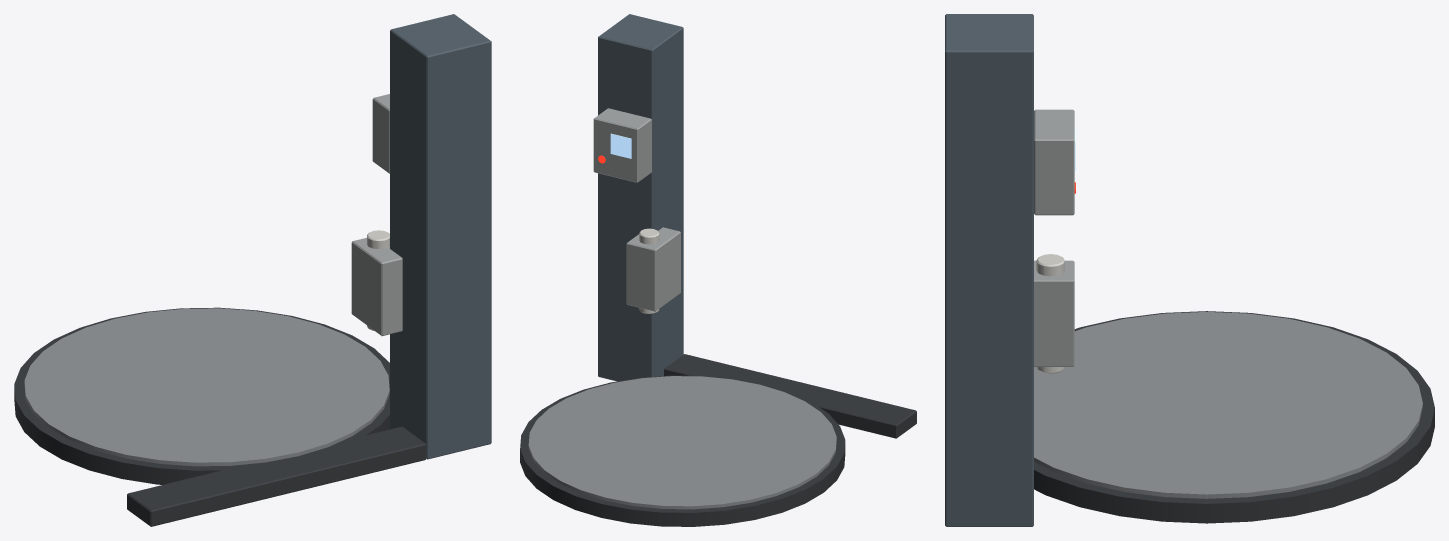
The model's file is prop_pallet_wrapper.glb.
The picture shows the model from 3 angles, left to right: view 1: azimuth 30°, elevation 25°; view 2: azimuth 150°, elevation 25°; view 3: azimuth 270°, elevation 25°; orthographic projection. The views are drawn at different scales.
Visible parts, largest first — view 1: Wrapper; view 2: Wrapper; view 3: Wrapper.
Part boxes in pixels (x1,y1,x2,y2): Wrapper: (14, 14, 491, 526); Wrapper: (520, 14, 916, 526); Wrapper: (945, 14, 1434, 526).
Size of what is drawn, in the model's own units: 1.94 by 2.19 by 2.04.
